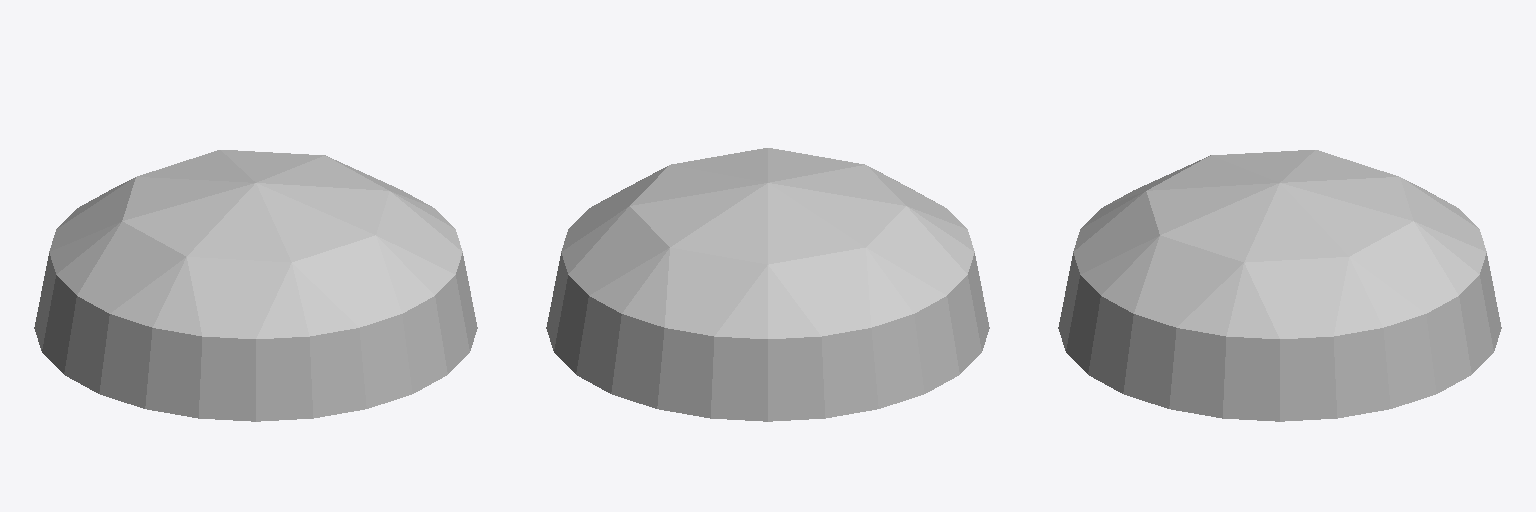
File: Seaside hill 3.obj
3 views of the same model, side by side, from view 1: azimuth 30°, elevation 25°; view 2: azimuth 150°, elevation 25°; view 3: azimuth 270°, elevation 25° (orthographic).
Parts seen in each view (by area): view 1: skybox; view 2: skybox; view 3: skybox.
Part boxes in pixels (bbox=[...]): skybox: bbox=[34, 150, 477, 421]; skybox: bbox=[546, 148, 989, 421]; skybox: bbox=[1058, 150, 1501, 421].
Size of the model in its own units: 100000 by 36392 by 100000.